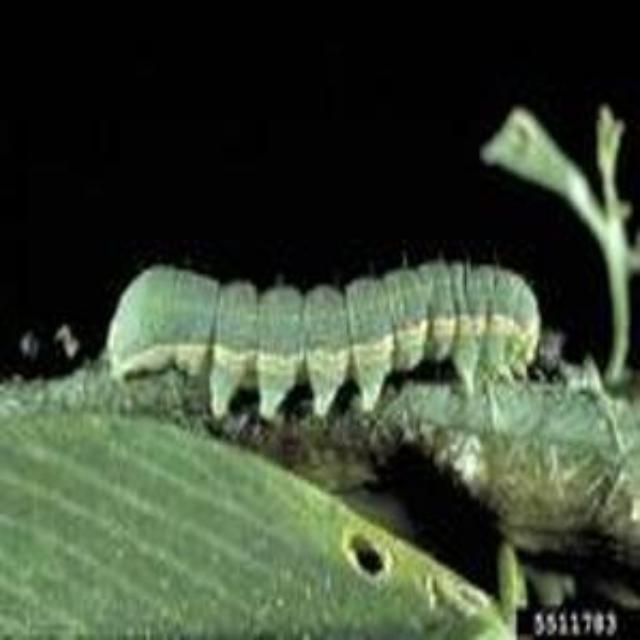Beet armyworm: (69, 204, 558, 462)
